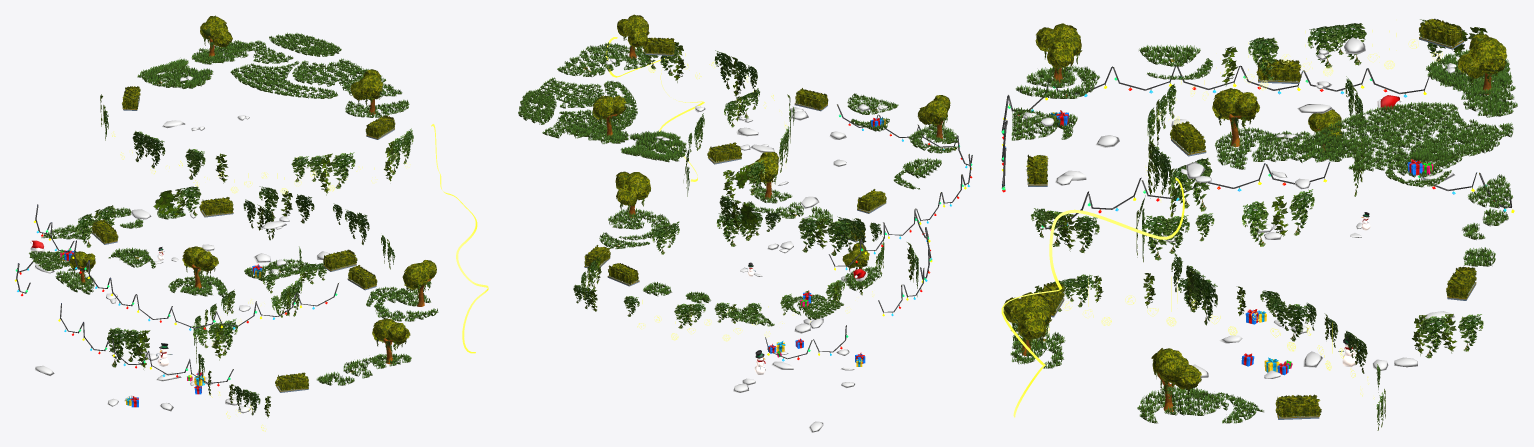
Rendered from event_xmas_stuff.gltf.
3 views of the same model, side by side, from view 1: azimuth 30°, elevation 25°; view 2: azimuth 150°, elevation 25°; view 3: azimuth 270°, elevation 25° (orthographic). The views are drawn at different scales.
Parts seen in each view (by area): view 1: event_xmas_node_Floor4_Vegetation.001, event_xmas_node_Floor3_Vegetation.001, event_xmas_node_Floor1_Vegetation.001, event_xmas_node_Floor2_Vegetation1.001, event_xmas_snow.002, event_xmas_lights1, BezierCurve, event_xmas_lights2; view 2: event_xmas_node_Floor4_Vegetation.001, event_xmas_node_Floor3_Vegetation.001, event_xmas_node_Floor1_Vegetation.001, event_xmas_node_Floor2_Vegetation1.001, event_xmas_snow.002, event_xmas_lights1; view 3: event_xmas_node_Floor4_Vegetation.001, event_xmas_node_Floor3_Vegetation.001, event_xmas_node_Floor1_Vegetation.001, event_xmas_node_Floor2_Vegetation1.001, event_xmas_snow.002, event_xmas_lights1, event_xmas_lights2, BezierCurve.
Boxes of the visible parts, x1=… form: event_xmas_node_Floor4_Vegetation.001: x1=100, y1=15, x2=413, y2=195; event_xmas_node_Floor3_Vegetation.001: x1=77, y1=186, x2=395, y2=297; event_xmas_node_Floor1_Vegetation.001: x1=193, y1=260, x2=438, y2=417; event_xmas_node_Floor2_Vegetation1.001: x1=29, y1=197, x2=302, y2=369; event_xmas_snow.002: x1=34, y1=76, x2=330, y2=413; event_xmas_lights1: x1=14, y1=204, x2=338, y2=386; BezierCurve: x1=431, y1=124, x2=488, y2=353; event_xmas_lights2: x1=111, y1=131, x2=410, y2=431; event_xmas_node_Floor4_Vegetation.001: x1=518, y1=14, x2=794, y2=198; event_xmas_node_Floor3_Vegetation.001: x1=683, y1=88, x2=958, y2=255; event_xmas_node_Floor1_Vegetation.001: x1=573, y1=152, x2=884, y2=328; event_xmas_node_Floor2_Vegetation1.001: x1=581, y1=212, x2=918, y2=326; event_xmas_snow.002: x1=605, y1=58, x2=887, y2=432; event_xmas_lights1: x1=765, y1=104, x2=972, y2=361; event_xmas_node_Floor4_Vegetation.001: x1=1147, y1=18, x2=1517, y2=198; event_xmas_node_Floor3_Vegetation.001: x1=1011, y1=23, x2=1364, y2=260; event_xmas_node_Floor1_Vegetation.001: x1=1003, y1=273, x2=1385, y2=430; event_xmas_node_Floor2_Vegetation1.001: x1=1136, y1=109, x2=1512, y2=358; event_xmas_snow.002: x1=1023, y1=37, x2=1456, y2=378; event_xmas_lights1: x1=1001, y1=64, x2=1514, y2=230; event_xmas_lights2: x1=1046, y1=29, x2=1442, y2=399; BezierCurve: x1=1001, y1=177, x2=1184, y2=417.
Size of what is drawn, in the model's own units: 47.93 by 40.95 by 47.27.
15 materials, 11 textured.
